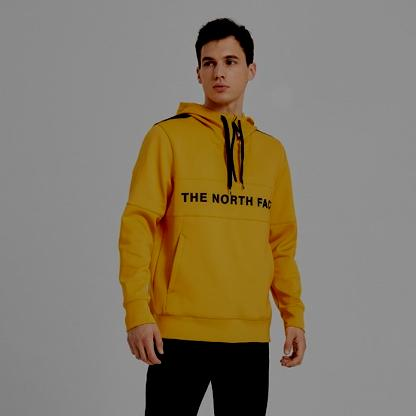dress: (112, 86, 315, 367)
